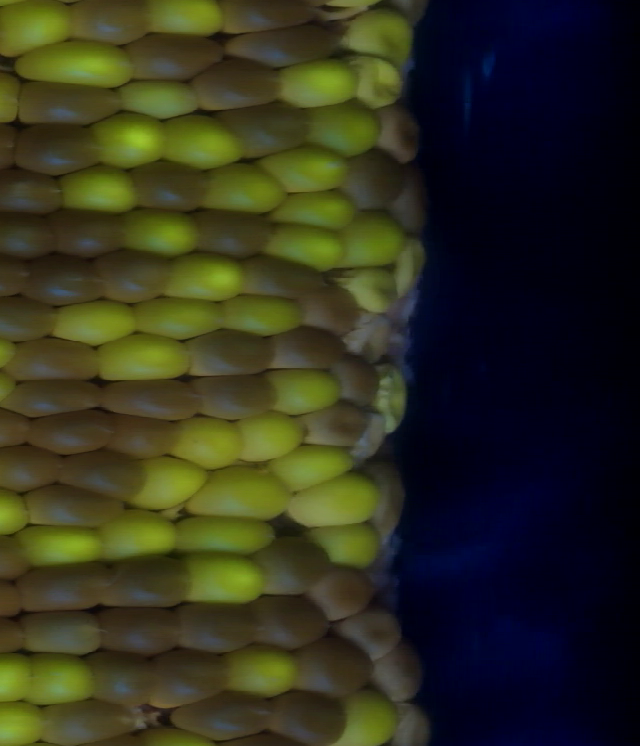fluorescent: (9, 39, 139, 90), (186, 464, 296, 524), (277, 471, 387, 527), (99, 328, 192, 383), (181, 549, 267, 608), (132, 293, 230, 344), (166, 412, 241, 477), (95, 504, 178, 562), (170, 511, 281, 554), (162, 113, 243, 169), (261, 143, 351, 192), (95, 109, 166, 171), (207, 161, 290, 214), (306, 98, 383, 155), (259, 220, 343, 272), (53, 296, 145, 343), (340, 208, 408, 271), (261, 366, 344, 417), (272, 440, 360, 488), (137, 454, 208, 513), (17, 518, 103, 566), (25, 646, 97, 703), (351, 3, 413, 69), (216, 291, 303, 338), (62, 160, 135, 216), (334, 688, 400, 746), (0, 1, 71, 54), (124, 207, 196, 259), (232, 643, 296, 701), (166, 254, 241, 303), (235, 414, 307, 465), (276, 60, 354, 106), (314, 518, 383, 569), (278, 187, 366, 225), (119, 76, 202, 116), (346, 53, 406, 107), (390, 174, 433, 235), (343, 266, 400, 312), (0, 695, 49, 746), (376, 363, 410, 431), (395, 244, 428, 303), (0, 651, 34, 706), (0, 481, 30, 540)
nonfluorescent: (14, 74, 123, 125), (175, 687, 277, 741), (149, 651, 238, 711), (12, 120, 104, 178), (14, 561, 111, 616), (22, 481, 122, 532), (340, 146, 406, 223), (58, 444, 145, 502), (197, 54, 282, 113), (30, 246, 109, 309), (107, 551, 193, 608), (123, 32, 223, 81), (297, 633, 371, 699), (227, 98, 306, 159), (192, 370, 281, 424), (99, 244, 174, 308), (92, 376, 203, 419), (1, 372, 107, 417), (93, 601, 183, 654), (180, 329, 277, 378), (193, 204, 276, 261), (88, 646, 160, 711), (229, 25, 345, 65), (264, 686, 341, 746), (128, 160, 209, 217), (4, 335, 102, 382), (24, 408, 118, 457), (254, 535, 327, 598), (17, 606, 102, 659), (249, 596, 328, 651), (41, 695, 134, 741), (238, 248, 317, 302), (45, 207, 127, 259), (181, 599, 254, 656), (361, 462, 402, 555), (262, 325, 343, 372), (102, 407, 172, 461), (317, 560, 377, 617), (371, 107, 428, 167), (302, 403, 372, 451), (0, 444, 70, 492), (340, 603, 396, 662), (297, 282, 360, 332), (0, 166, 61, 216), (377, 643, 423, 708), (0, 293, 60, 341), (0, 213, 55, 259), (337, 356, 380, 408), (0, 530, 37, 581), (0, 249, 33, 299), (0, 404, 30, 451)
